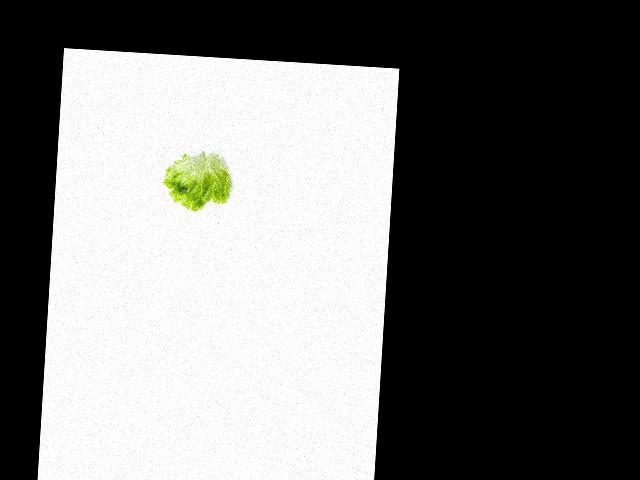lettuce: (159, 147, 238, 211)
